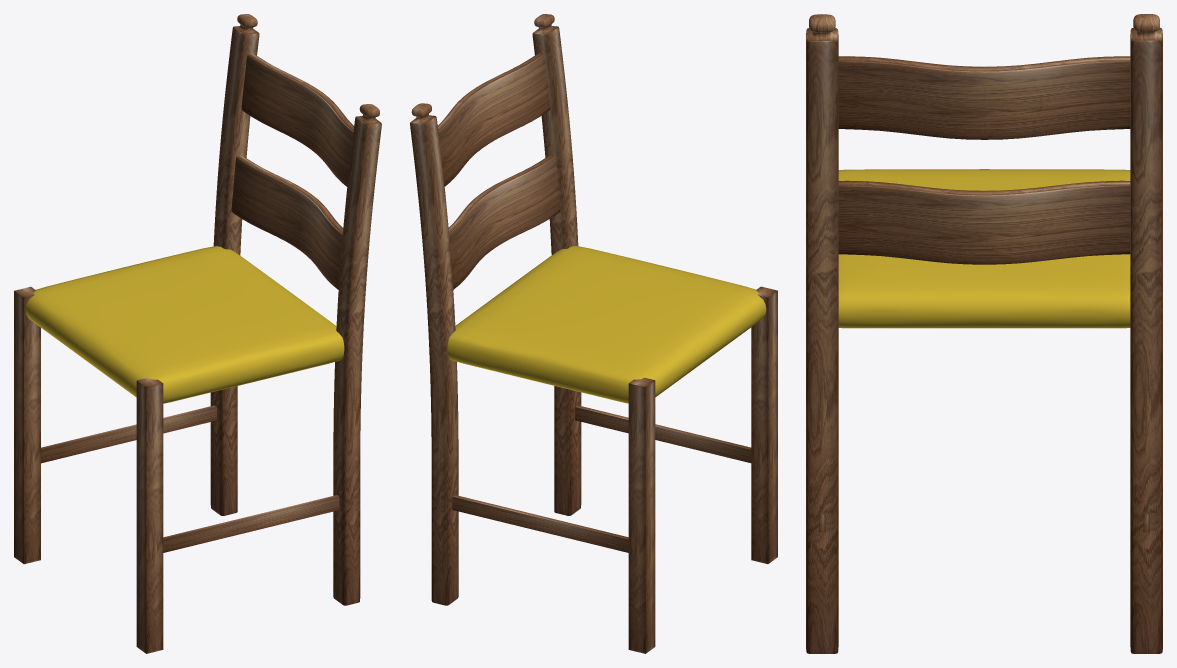
Rendered from chair.glb.
3 renders of one model, left to right at view 1: azimuth 30°, elevation 25°; view 2: azimuth 150°, elevation 25°; view 3: azimuth 270°, elevation 25°, orthographic. The views are drawn at different scales.
Parts seen in each view (by area): view 1: Cubo.2, Cubo-Nuovo (×3), Cubo.3-Nuovo (×3), Cubo.1-Nuovo, Cubo.4-Nuovo; view 2: Cubo.2, Cubo-Nuovo (×3), Cubo.3-Nuovo (×3), Cubo.1-Nuovo, Cubo.4-Nuovo; view 3: Cubo.3-Nuovo (×2), Cubo-Nuovo (×2), Cubo.2.
Part boxes in pixels (x1,y1,x2,y2): Cubo.2: [25, 246, 344, 403]; Cubo-Nuovo (×3): [136, 14, 381, 653]; Cubo.3-Nuovo (×3): [163, 53, 353, 552]; Cubo.1-Nuovo: [14, 286, 40, 564]; Cubo.4-Nuovo: [41, 405, 216, 463]; Cubo.2: [447, 246, 766, 403]; Cubo-Nuovo (×3): [410, 14, 777, 605]; Cubo.3-Nuovo (×3): [437, 53, 751, 462]; Cubo.1-Nuovo: [628, 377, 655, 653]; Cubo.4-Nuovo: [452, 495, 628, 552]; Cubo.3-Nuovo (×2): [838, 56, 1130, 264]; Cubo-Nuovo (×2): [806, 14, 1162, 653]; Cubo.2: [838, 169, 1130, 328].
Size of the model in its own units: 28.63 by 55.06 by 27.5.
2 materials, 1 textured.
